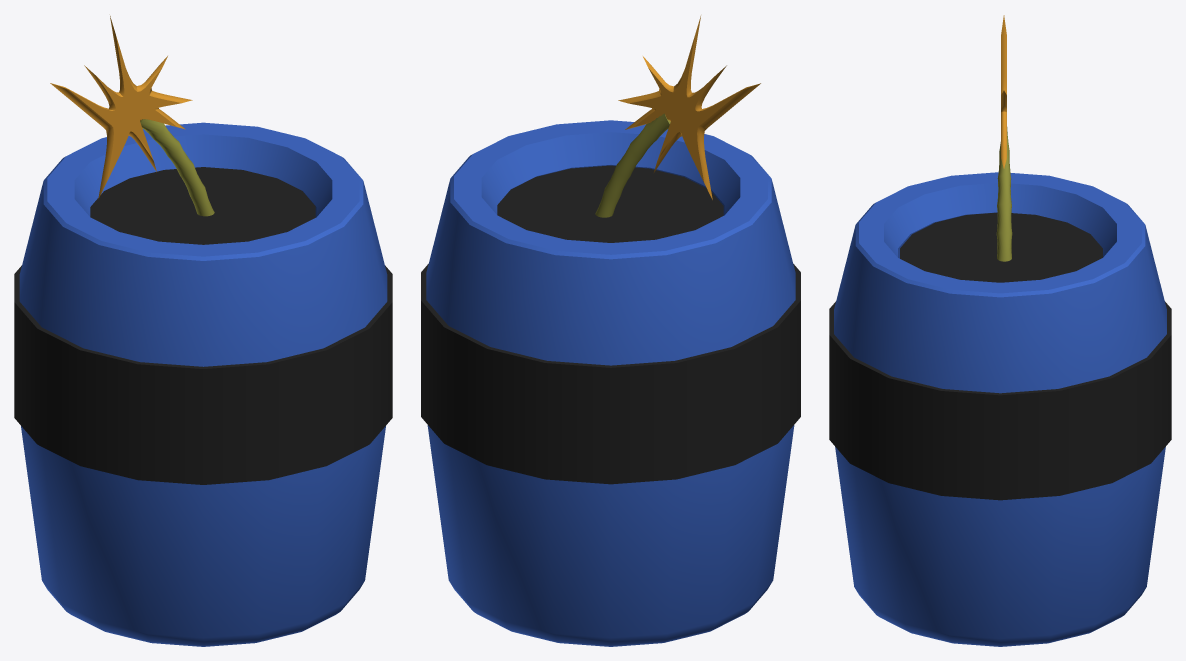
File: 大招10炸弹桶.FBX
3 views of the same model, side by side, from view 1: azimuth 30°, elevation 25°; view 2: azimuth 150°, elevation 25°; view 3: azimuth 270°, elevation 25° (orthographic). The views are drawn at different scales.
Parts seen in each view (by area): view 1: Cylinder001, 对象001, 对象002, Line001, Cylinder002; view 2: Cylinder001, 对象001, 对象002, Line001, Cylinder002; view 3: Cylinder001, 对象001, 对象002, Cylinder002, Line001.
Boxes of the visible parts, box(x1,y1,x2,y2) form: Cylinder001: box(19, 122, 387, 646); 对象001: box(14, 265, 392, 484); 对象002: box(90, 167, 315, 244); Line001: box(50, 16, 192, 198); Cylinder002: box(140, 119, 214, 216); Cylinder001: box(426, 120, 795, 646); 对象001: box(421, 264, 800, 484); 对象002: box(497, 165, 723, 242); Line001: box(618, 16, 760, 199); Cylinder002: box(595, 113, 670, 217); Cylinder001: box(834, 172, 1166, 646); 对象001: box(829, 301, 1171, 500); 对象002: box(900, 212, 1102, 282); Cylinder002: box(996, 127, 1012, 261); Line001: box(1001, 15, 1006, 168).
Size of the model in its own units: 84.69 by 144 by 83.4.
